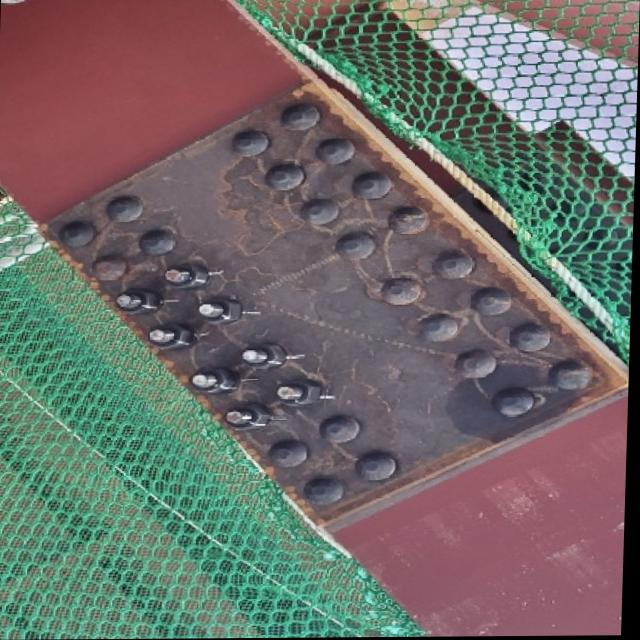Regular bolt: (274, 376, 331, 415), (194, 291, 247, 329), (219, 402, 274, 438), (148, 324, 198, 357), (166, 255, 211, 291), (240, 342, 287, 375), (190, 370, 240, 399), (115, 288, 160, 319)
